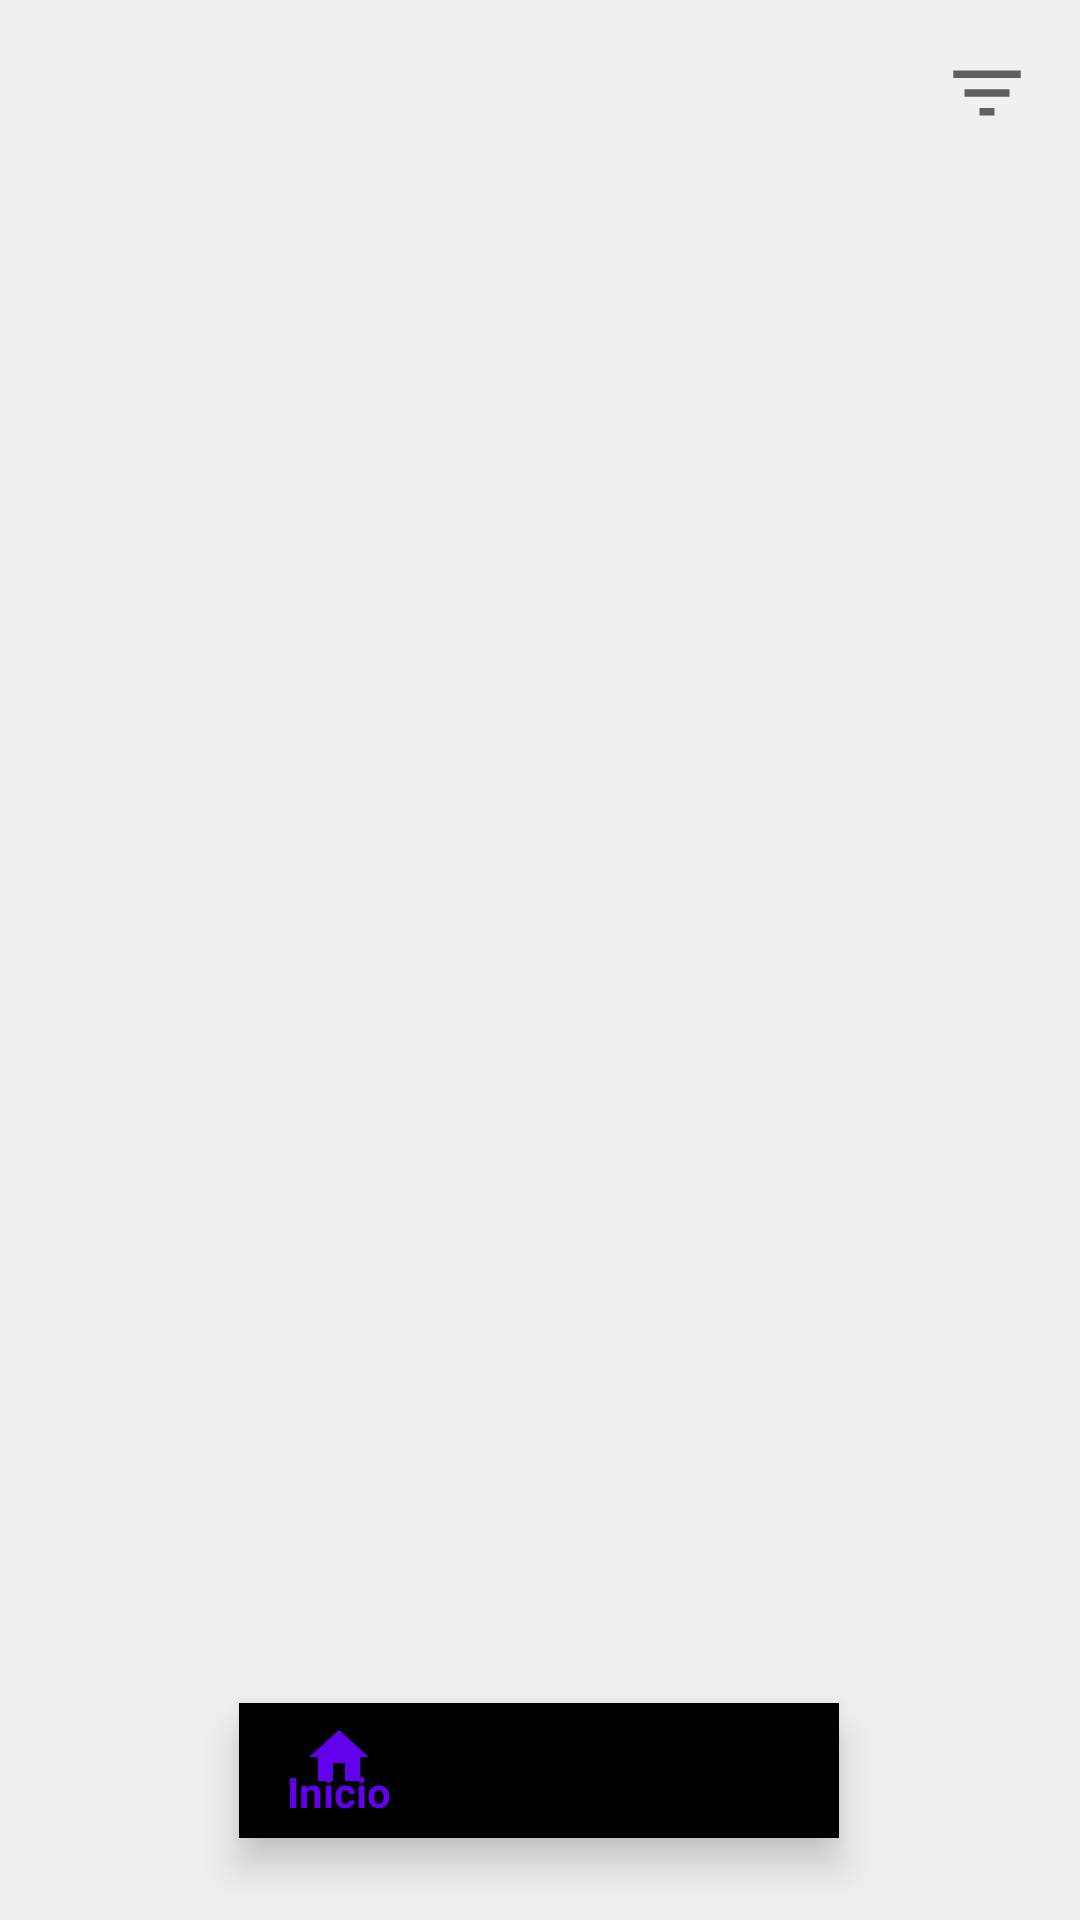

Named icons in this screenshot (1080w x 1920h) and their centers, [x,y]:
filter: [987,93]
